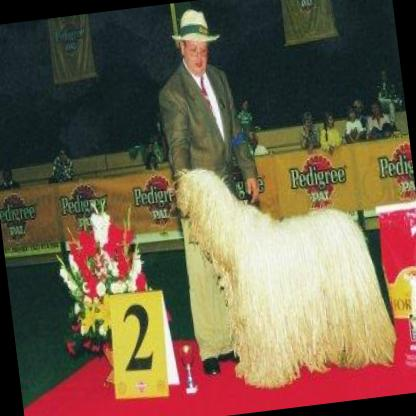komondor: (161, 146, 398, 395)
